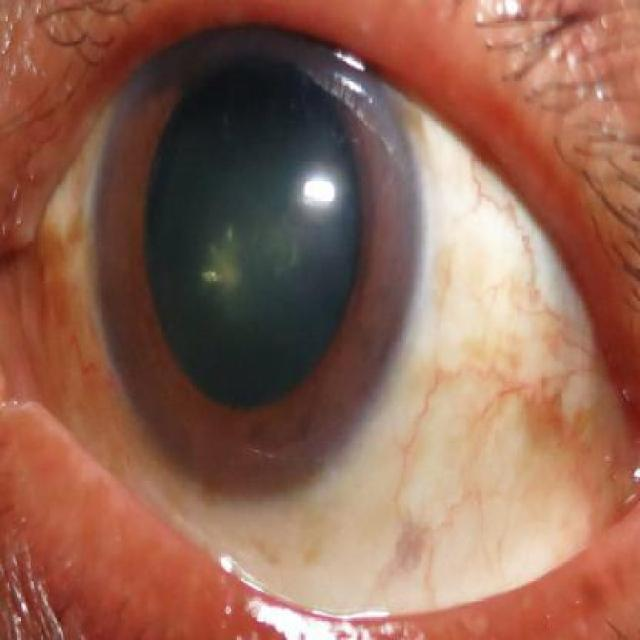Cataract: (87, 0, 421, 498)
